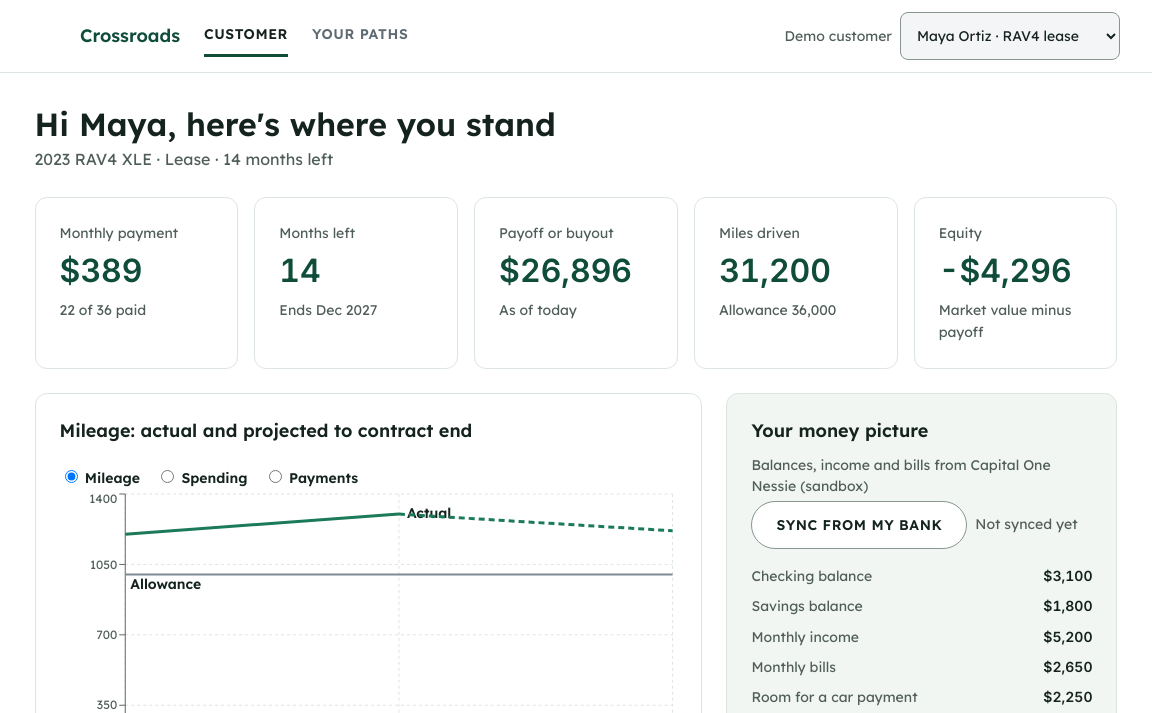
Test: Sync from my bank (FR-039) › keeps the last figures and says so in plain words when the bank cannot be reached
Check: the text "$3,100" is shown, box [1043, 565, 1092, 587]
What coordinates should you click on to do the following:
click the button "Sync from my bank"
I would click on:
 (859, 525)
Its box is [752, 501, 967, 549].
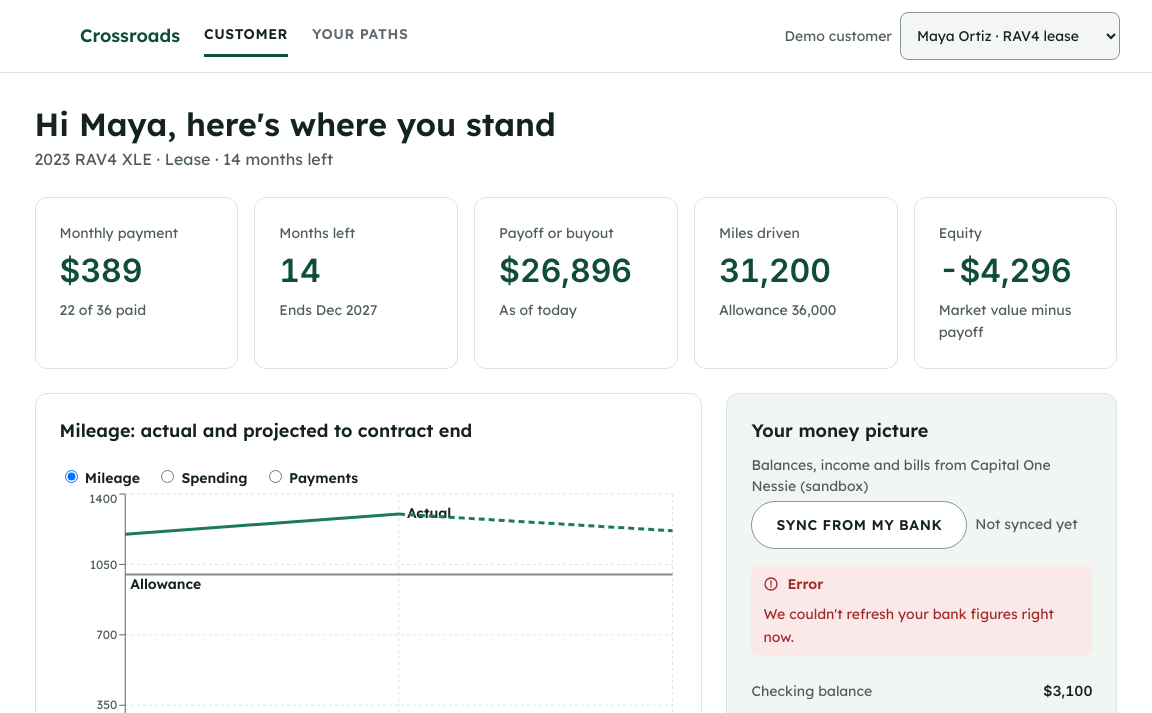
Check: the text "$3,100" is shown, box [1043, 680, 1092, 702]
Check: the message shows "We couldn't refresh your bank figures right now.", box [764, 605, 1054, 646]
